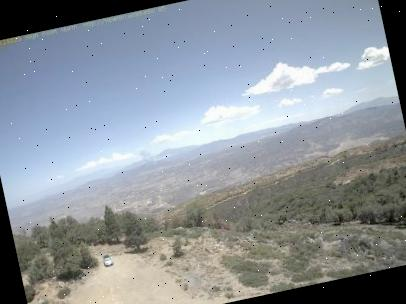smoke: (134, 143, 161, 171)
